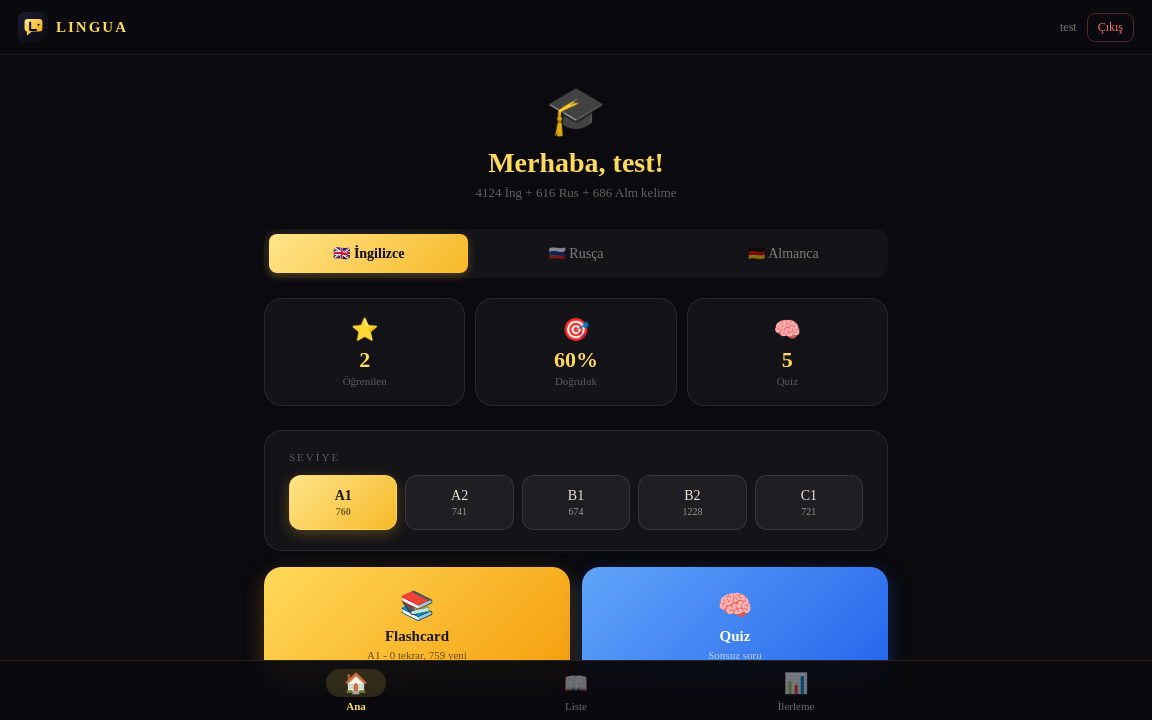
Test case: kayıt başarısızsa uyarı çıkar, tekrar denenince kalkar
Click the button "📚 Flashcard A1 - 0 tekrar, 759 yeni" at [417, 625], box [264,567,570,683]
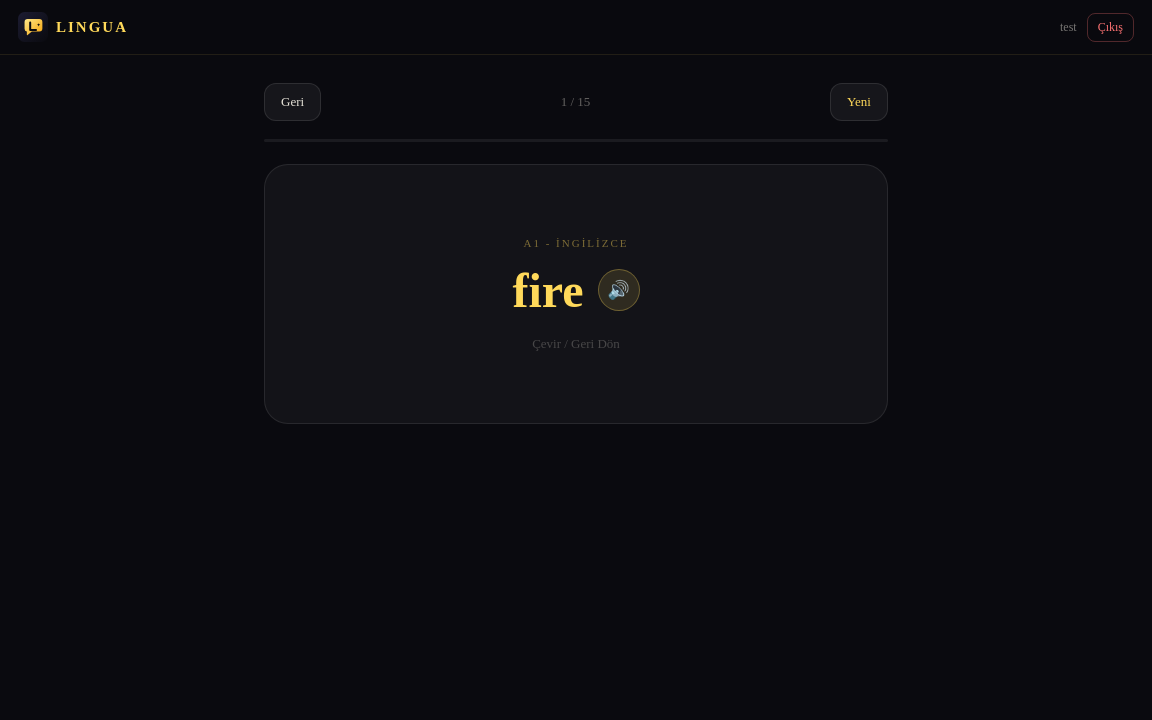
Click the element showing "A1 - İngilizce fire 🔊 Çevir / Geri Dön" at [576, 294], box [264,164,888,424]
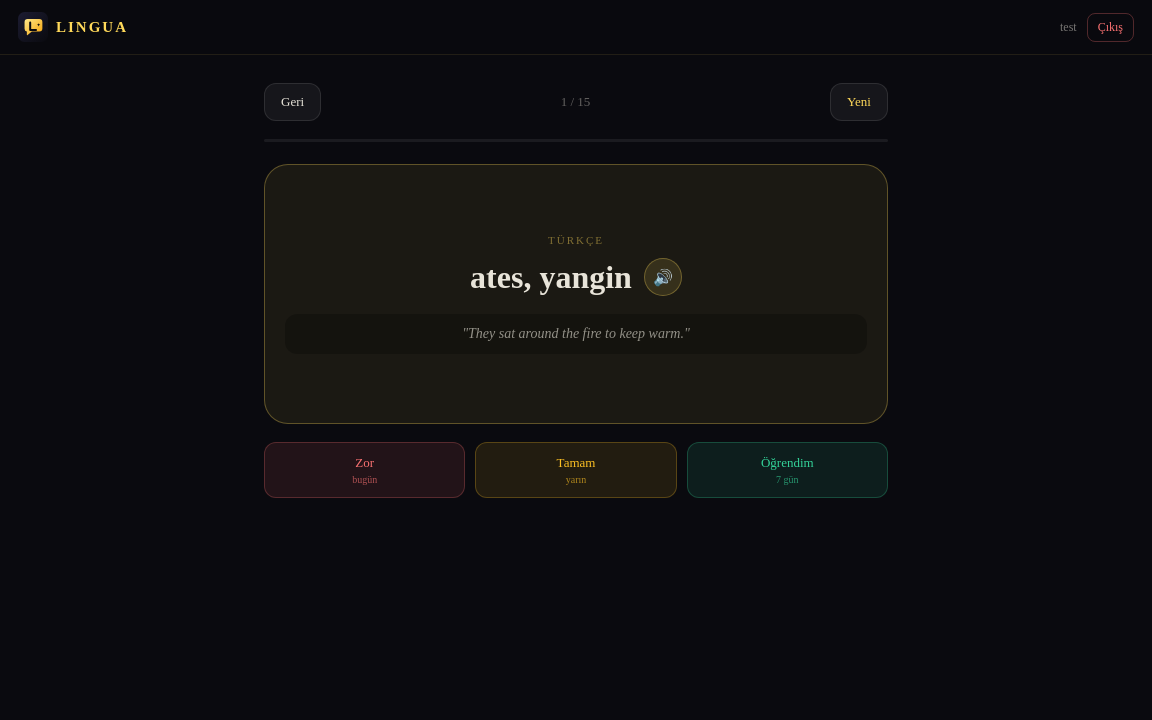
Click the button "Öğrendim 7 gün" at [787, 470], box [687,442,888,498]
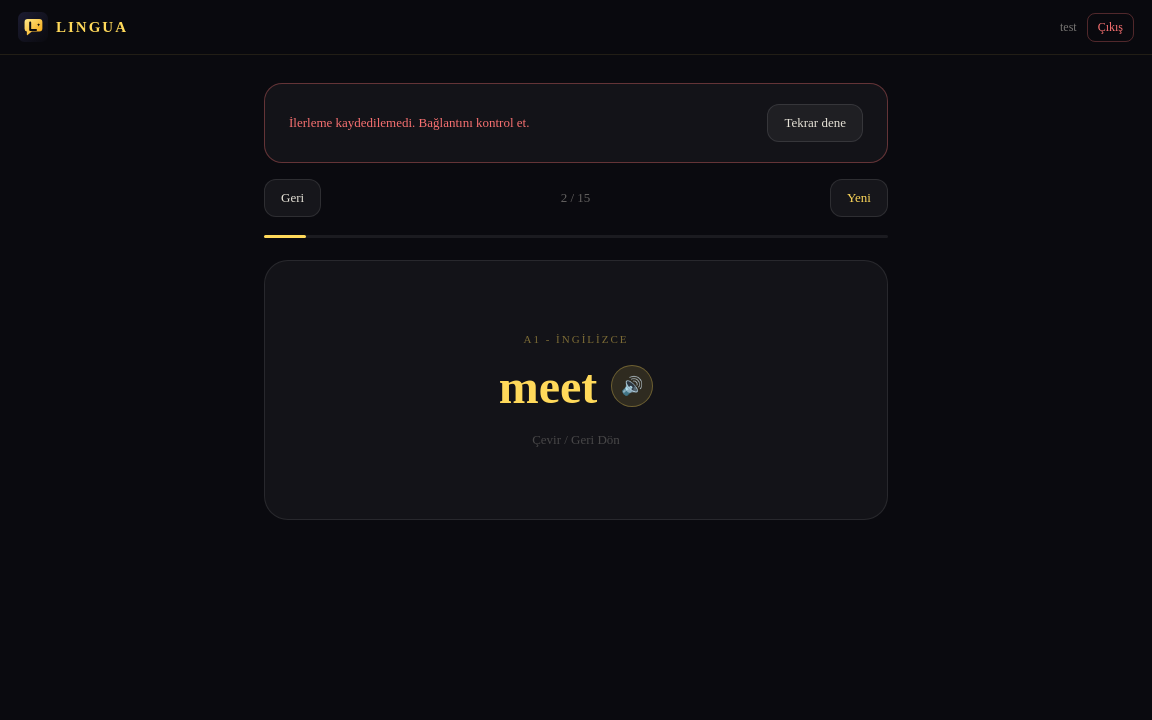
Now the element that starts with "LINGUA" shows "İlerleme kaydedilemedi", box [289,115,529,130]
Click the button "Tekrar dene" at [815, 123], box [768,104,863,142]
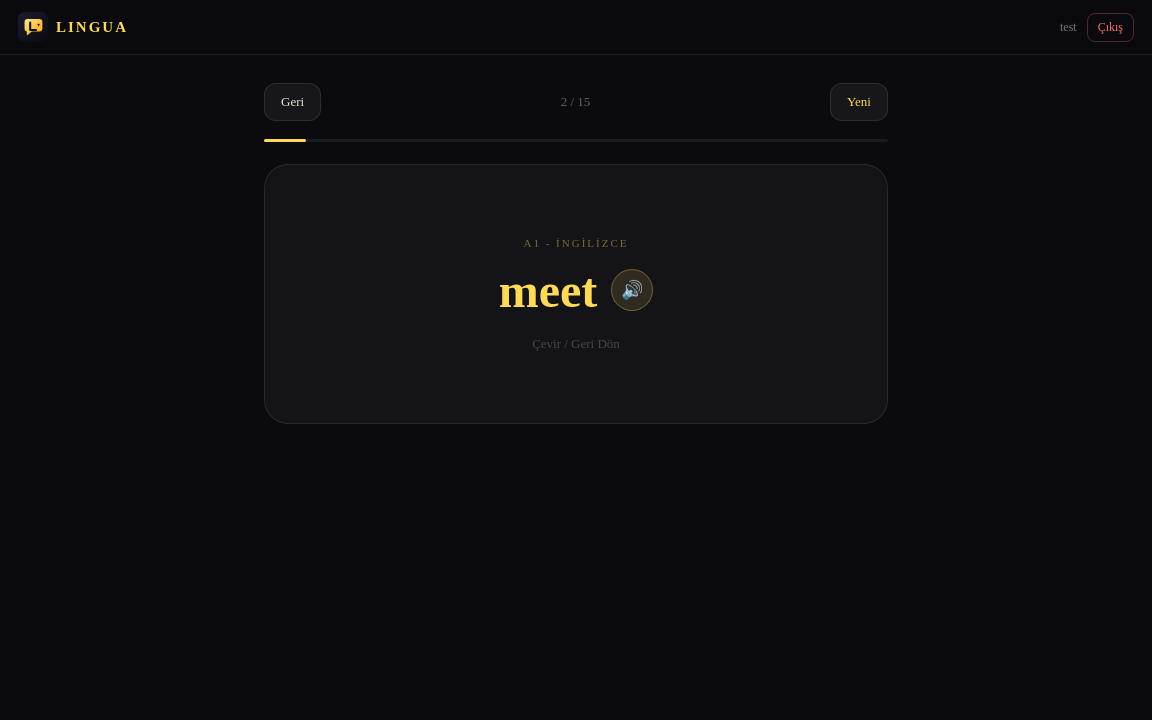
Now the text "kaydedilemedi" is gone
